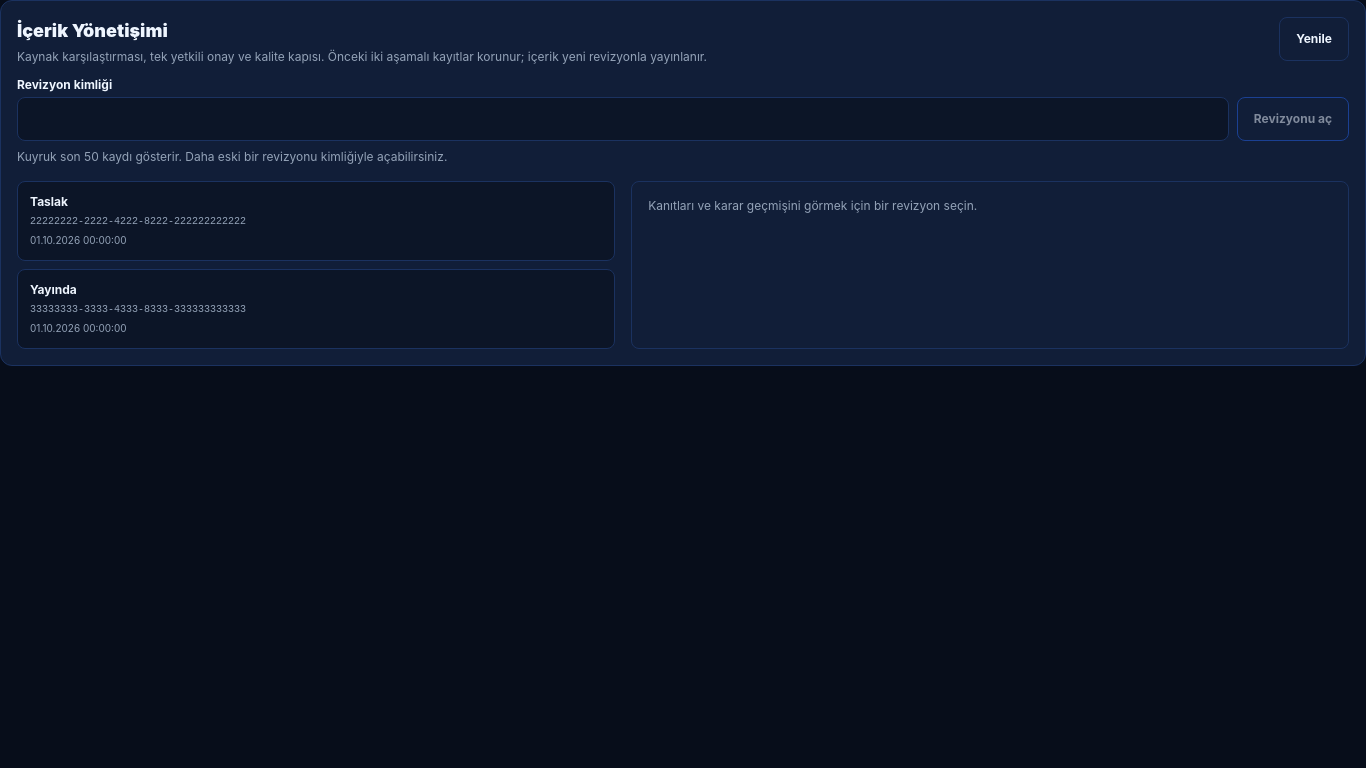
Scenario: source comparison approval controls › does not offer AI owner acceptance without a server capability
Click the text "Taslak" at (49, 202), box [30, 194, 68, 209]
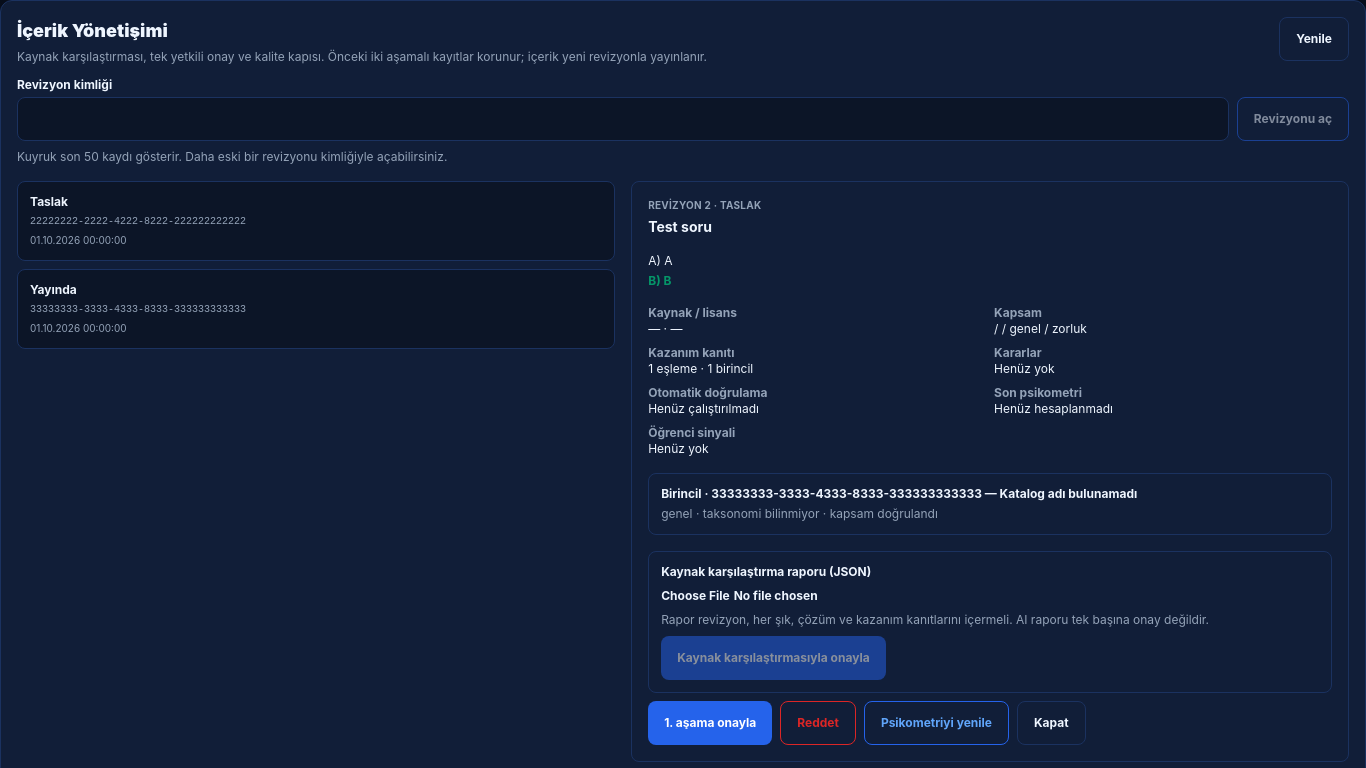
Expected: the file field labelled "Kaynak karşılaştırma raporu (JSON)" is shown, [661, 588, 937, 604]
